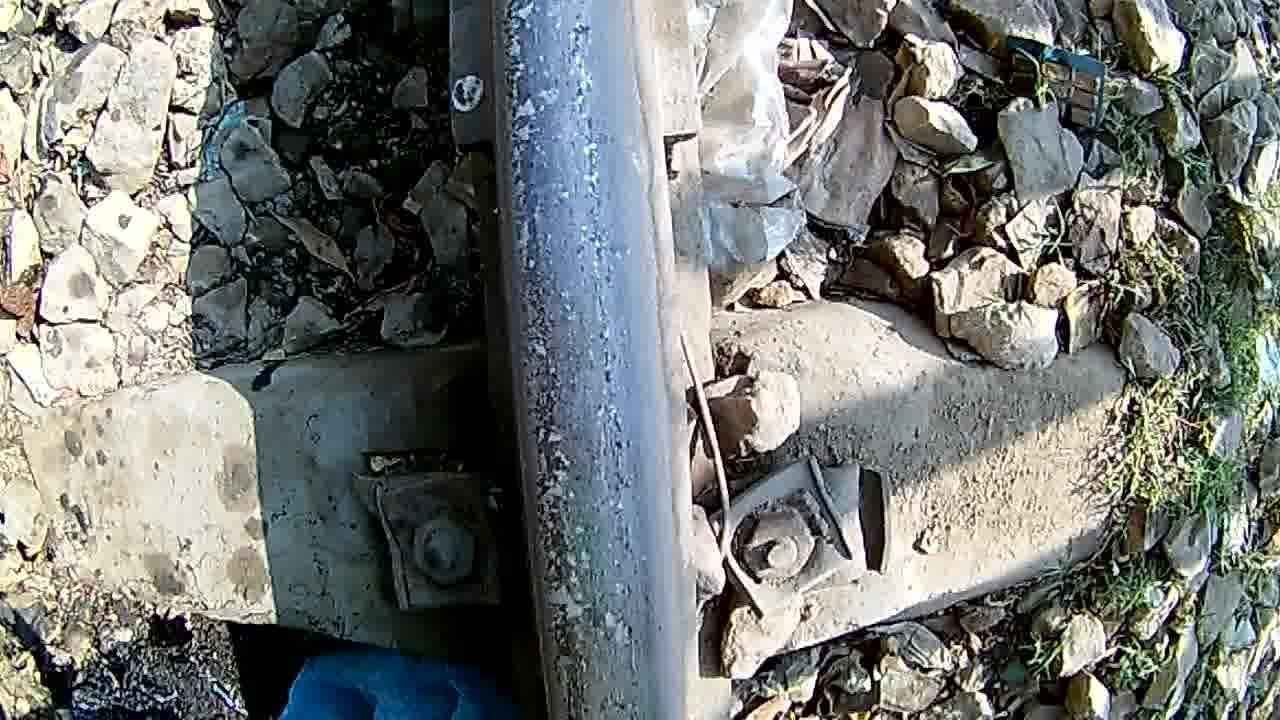crack: (488, 6, 666, 720)
